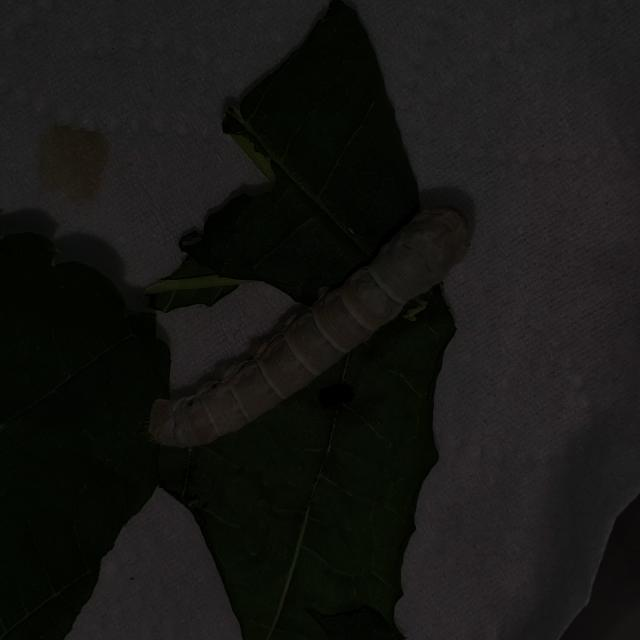Healthy: (144, 192, 477, 461)
